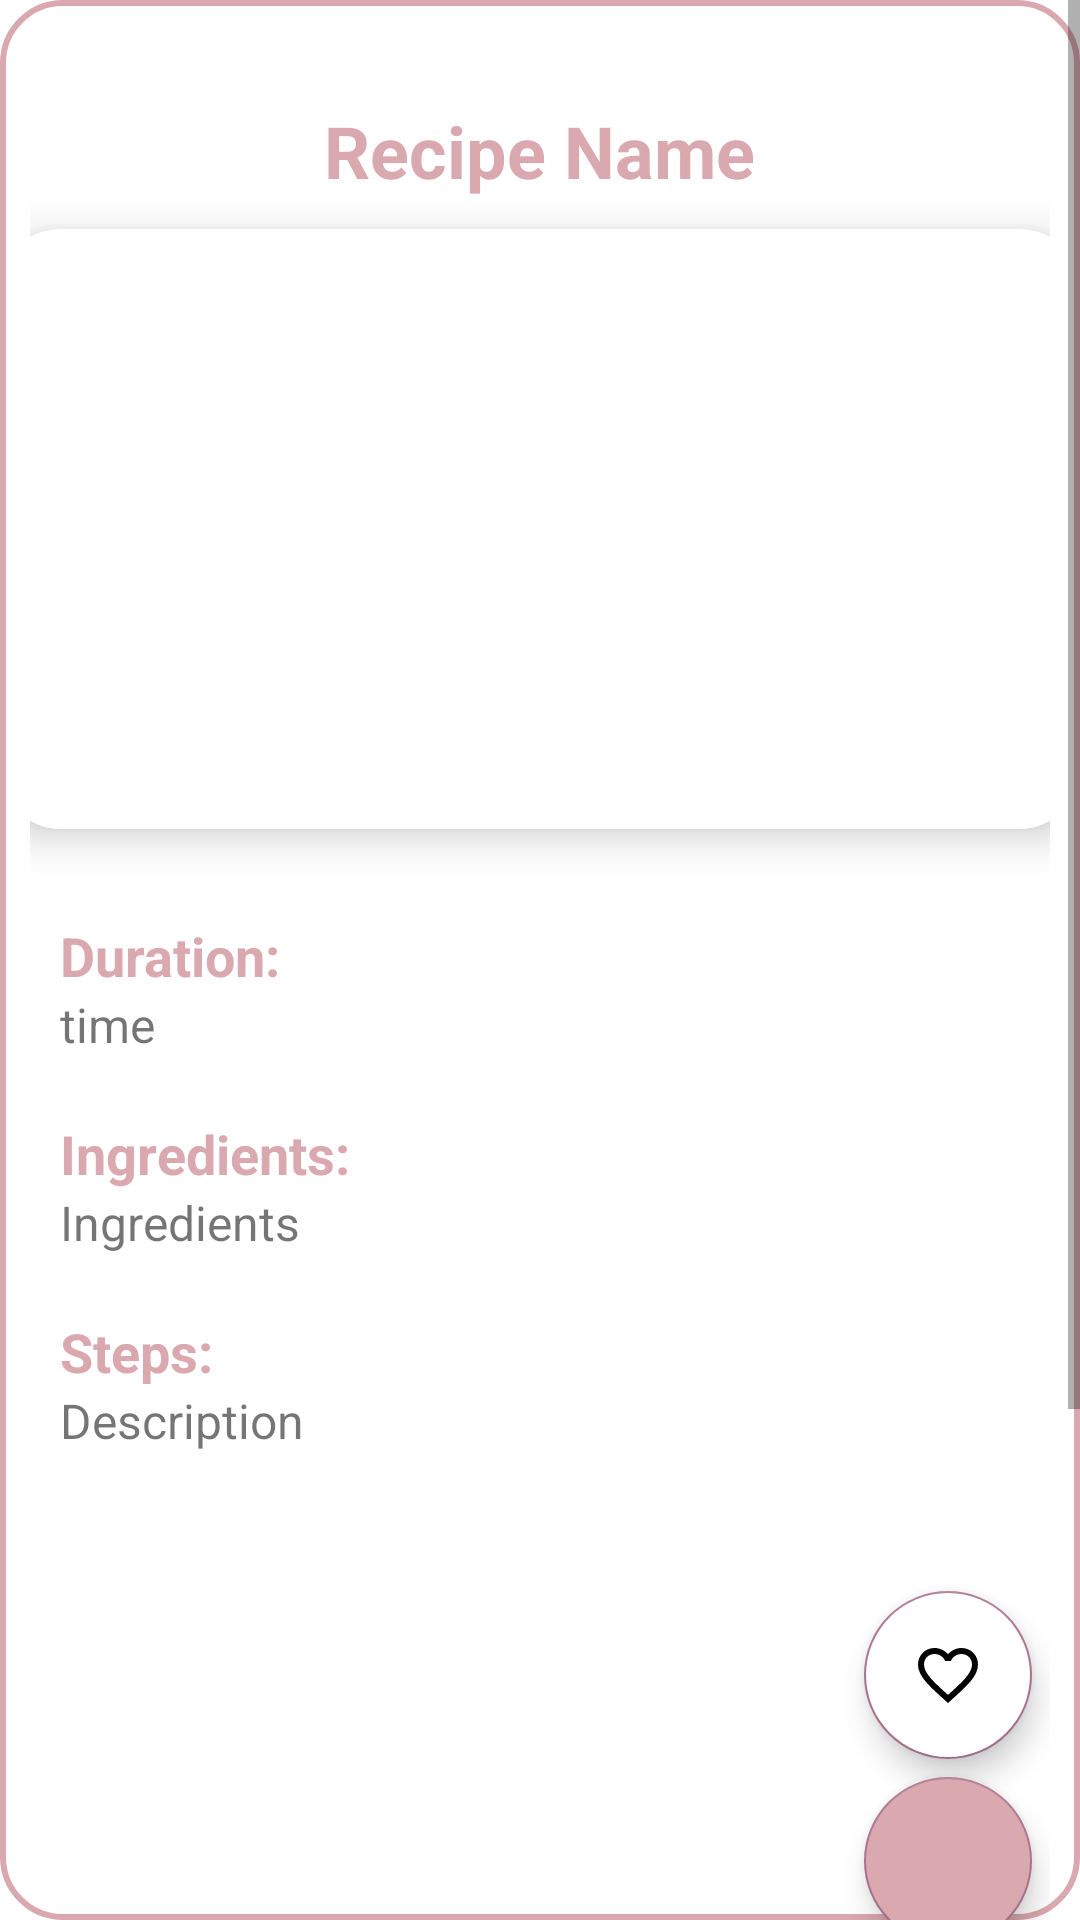

Where to tap for icons on this 1080px x 1920px app screen, as point (x, y):
favorite border: point (948, 1675)
